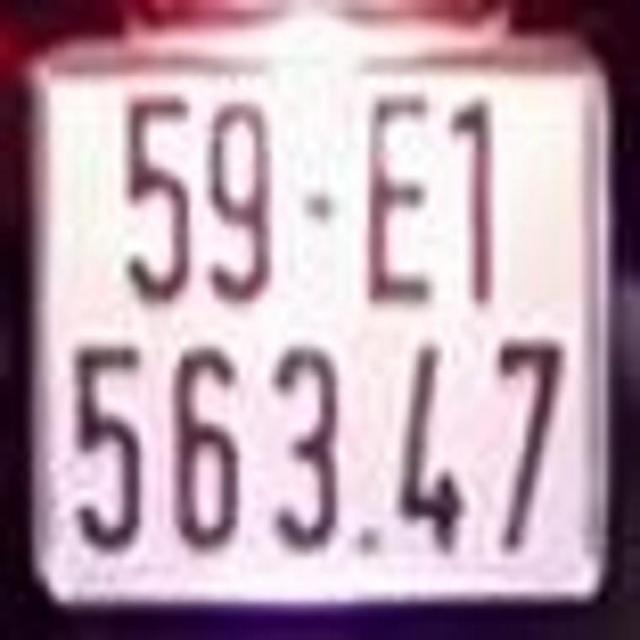1: (450, 100, 498, 303)
3: (271, 351, 341, 548)
4: (401, 346, 466, 553)
5: (72, 346, 144, 546), (124, 97, 190, 297)
6: (172, 348, 241, 543)
7: (500, 339, 565, 551)
9: (207, 100, 269, 302)
E: (367, 97, 435, 305)
